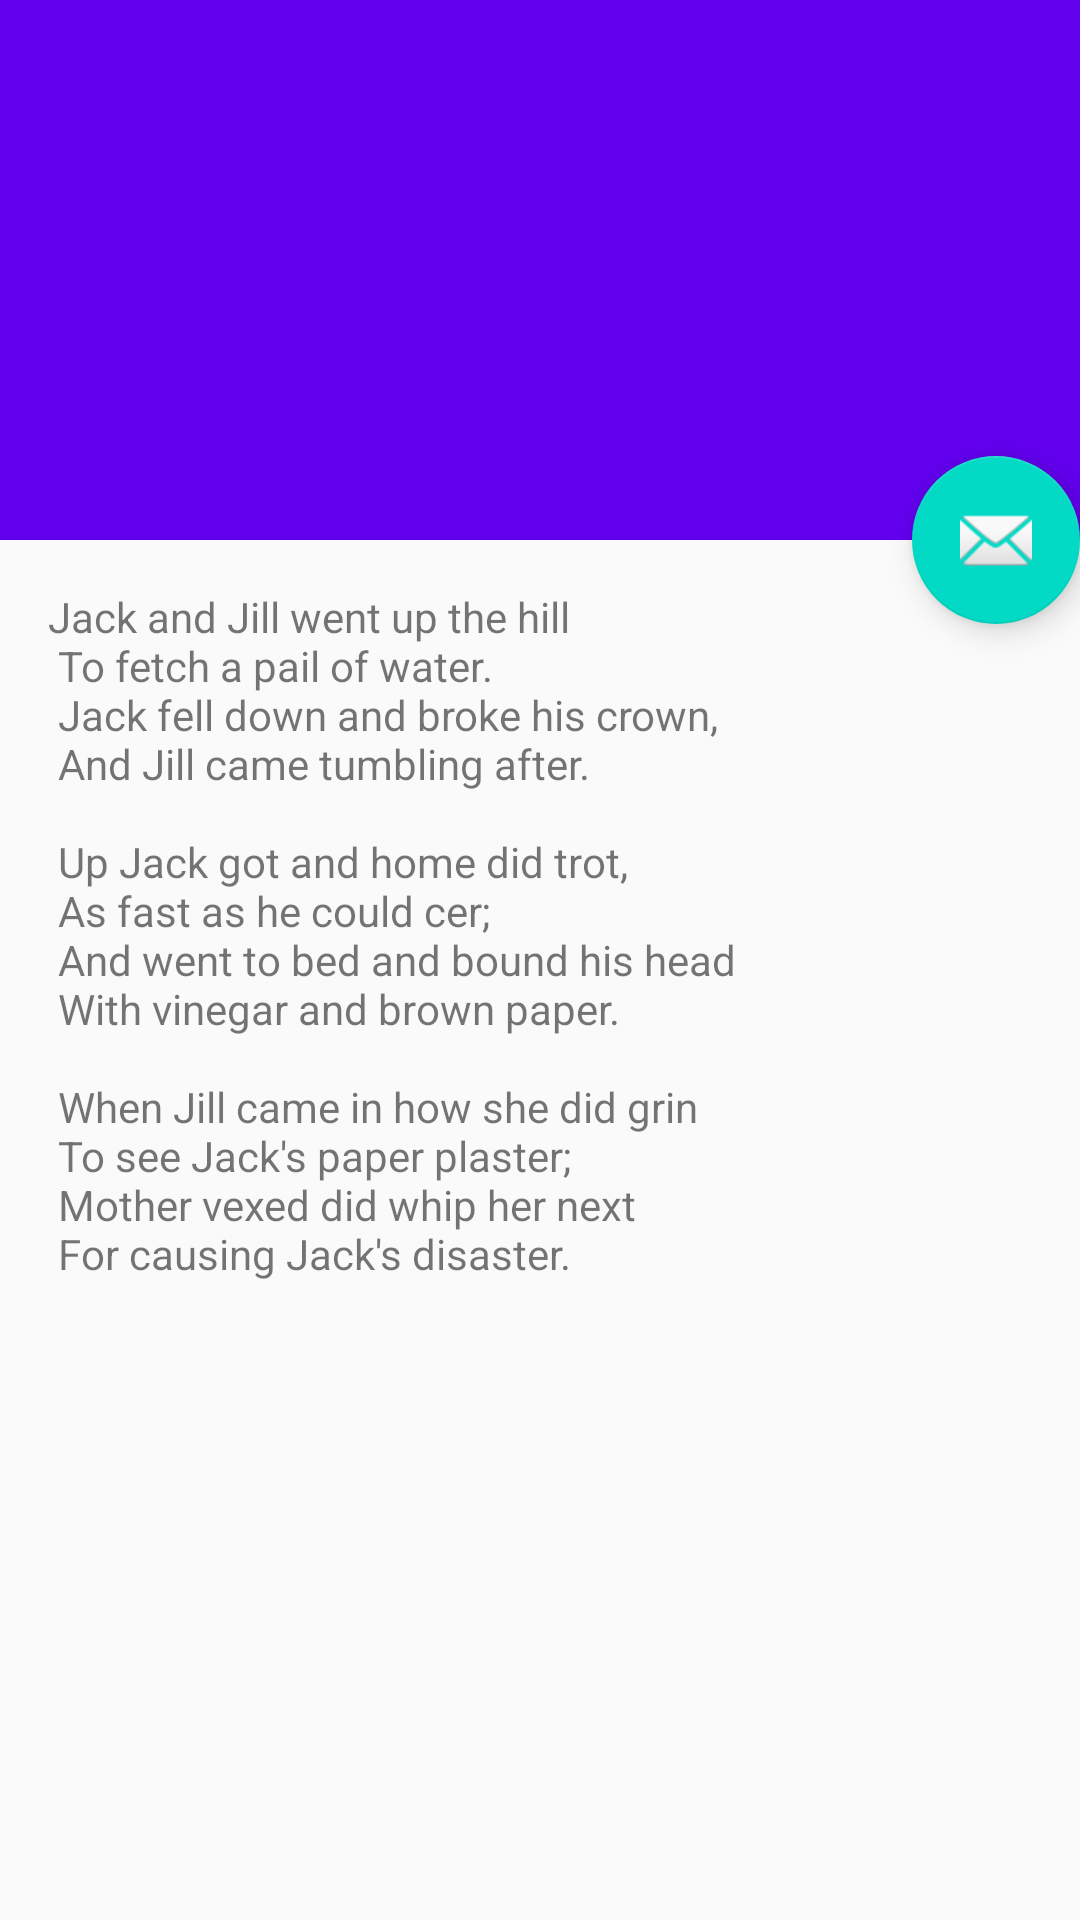

Icon click points for this 1080w x 1920h phone screenshot, format (x=x, y=y):
email: (x=996, y=540)
